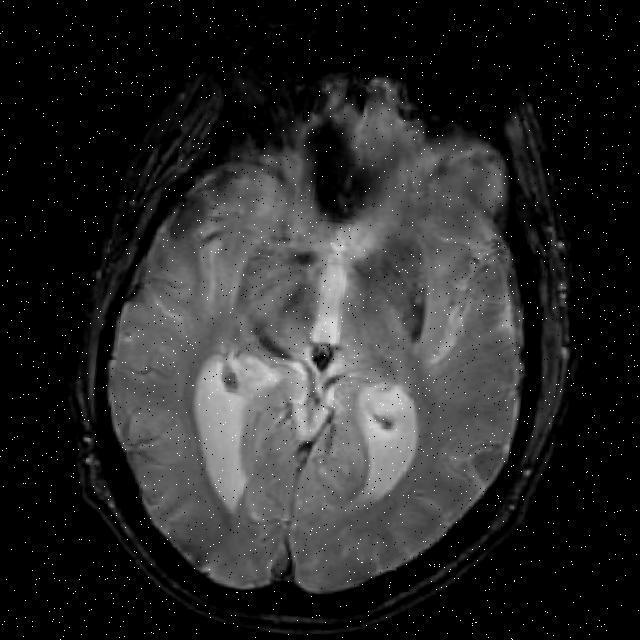EMCI: (354, 236, 462, 337), (298, 120, 370, 226), (166, 184, 230, 257)
